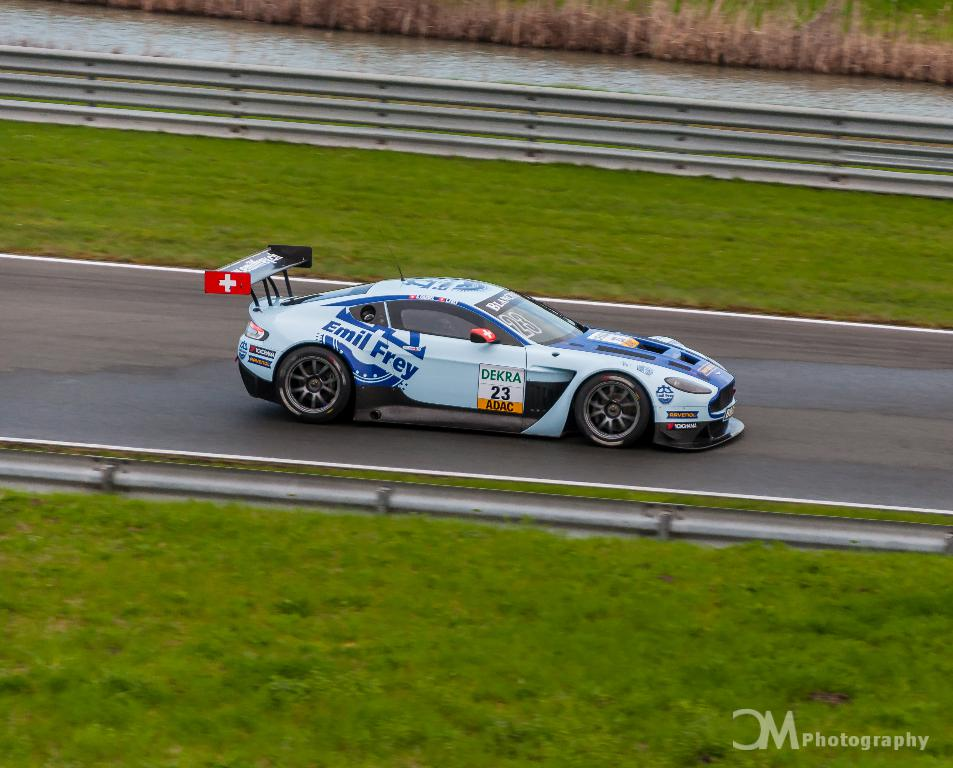Car: (196, 225, 752, 455)
